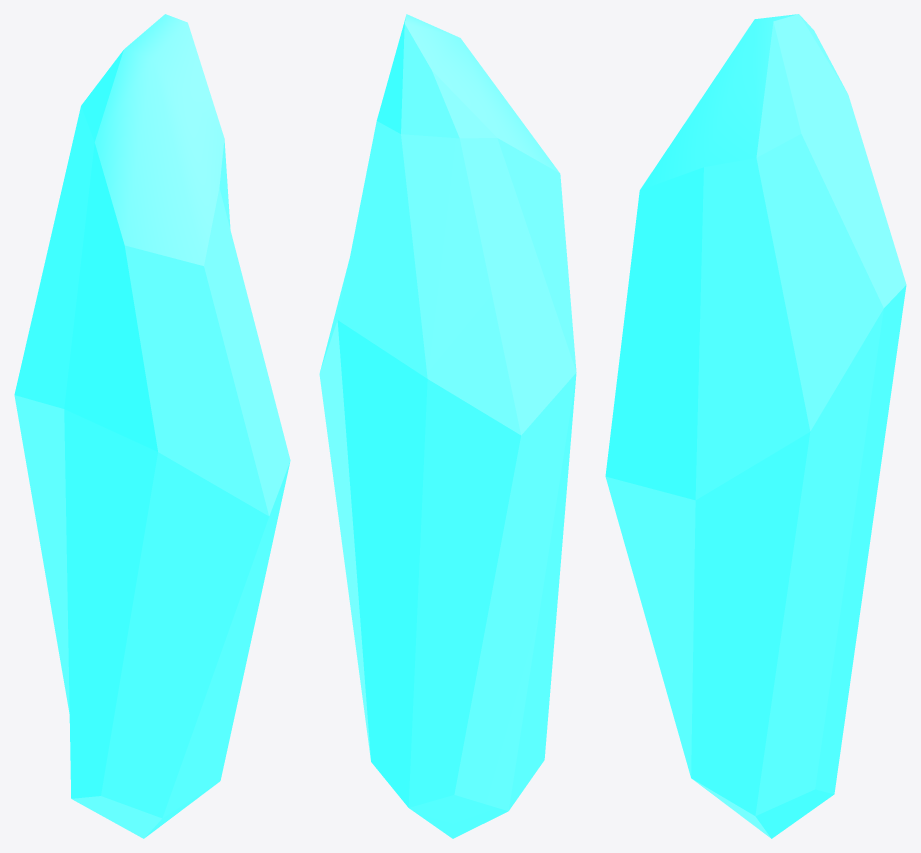
Rendered from jem.FBX.
3 renders of one model, left to right at view 1: azimuth 30°, elevation 25°; view 2: azimuth 150°, elevation 25°; view 3: azimuth 270°, elevation 25°, orthographic. The views are drawn at different scales.
Parts seen in each view (by area): view 1: Object002; view 2: Object002; view 3: Object002.
Boxes of the visible parts, x1,y1,x2,y2 form: Object002: (14,14,290,838); Object002: (319,14,576,838); Object002: (605,14,906,838).
Bounding box in the file's own units: 0.7184 × 2.59 × 0.8375.
